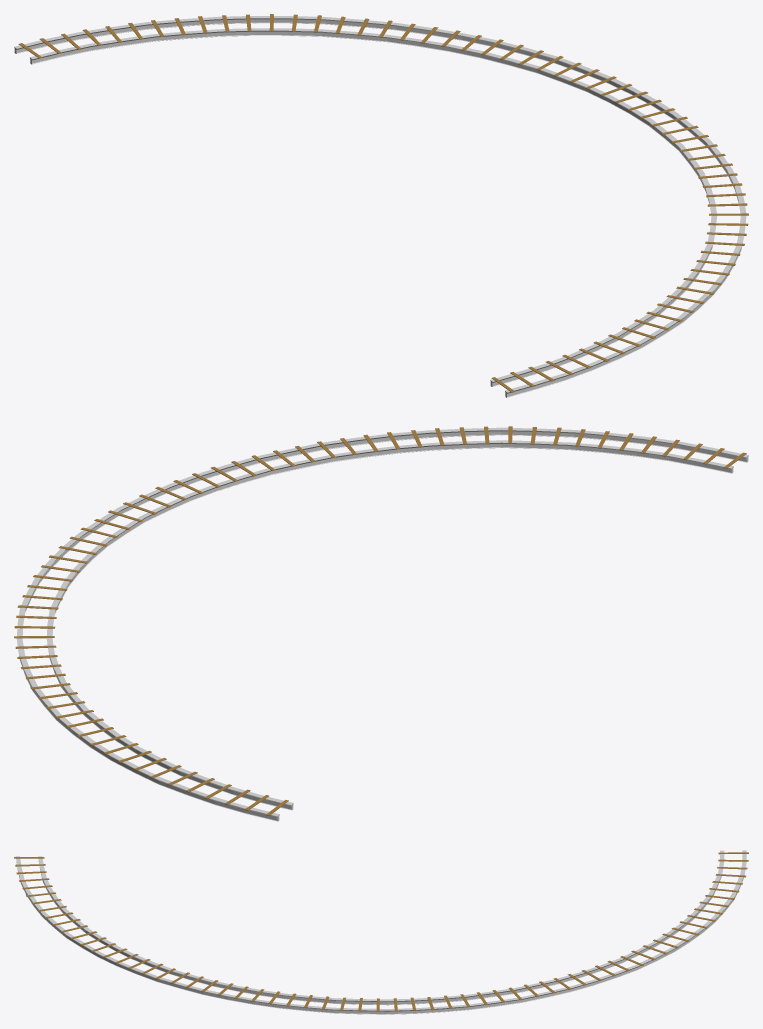
Rendered from 180dgTurn.fbx.
The picture shows the model from 3 angles, top to bottom: view 1: azimuth 30°, elevation 25°; view 2: azimuth 150°, elevation 25°; view 3: azimuth 270°, elevation 25°; orthographic projection. The views are drawn at different scales.
Parts seen in each view (by area): view 1: Top, Bot; view 2: Top, Bot; view 3: Top, Bot.
Part boxes in pixels (x1,y1,x2,y2): Top: (14, 16, 746, 397); Bot: (18, 14, 748, 392); Top: (16, 427, 748, 821); Bot: (14, 426, 746, 815); Top: (15, 850, 746, 1014); Bot: (14, 852, 748, 1011).
Bounding box in the file's own units: 4188 × 58.2 × 8062.
